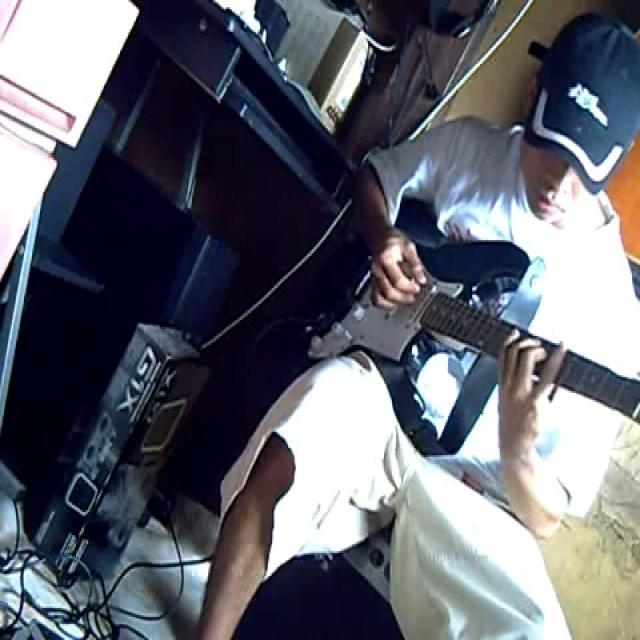Guitar: (310, 195, 640, 448)
